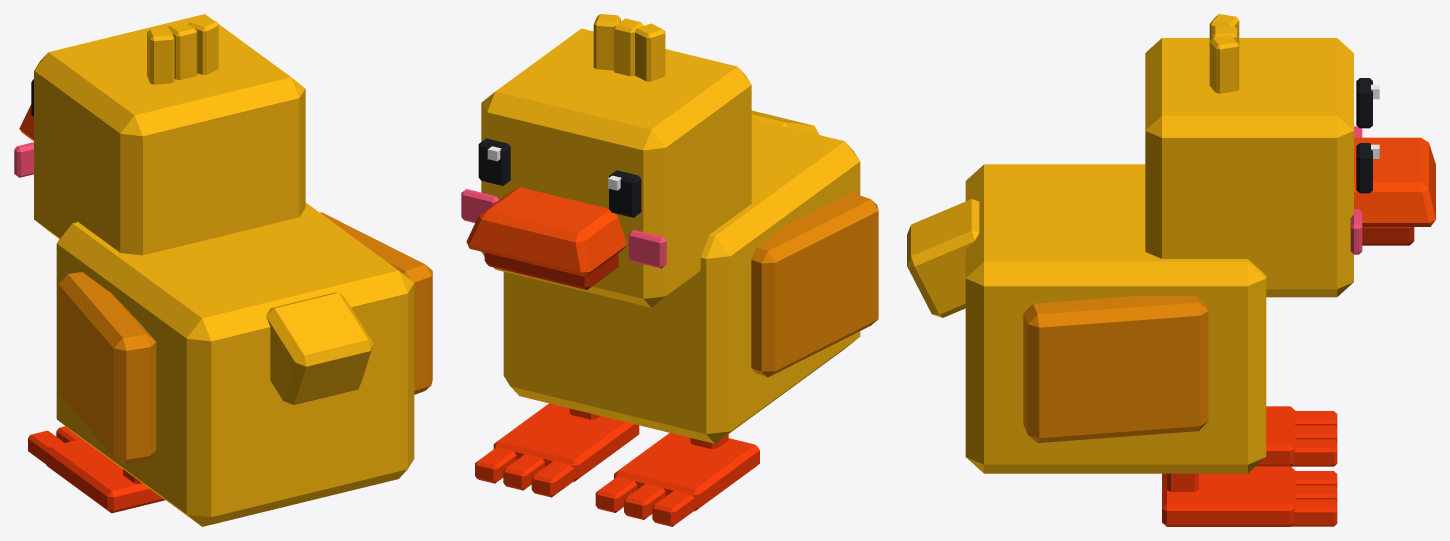
The model's file is Duckling.fbx.
3 views of the same model, side by side, from view 1: azimuth 30°, elevation 25°; view 2: azimuth 150°, elevation 25°; view 3: azimuth 270°, elevation 25° (orthographic).
Visible parts, largest first — view 1: Duckling; view 2: Duckling; view 3: Duckling.
Boxes of the visible parts, x1,y1,x2,y2 form: Duckling: (14,14,432,526); Duckling: (461,14,878,526); Duckling: (907,14,1435,526).
Size of the model in its own units: 448 by 593 by 633.
